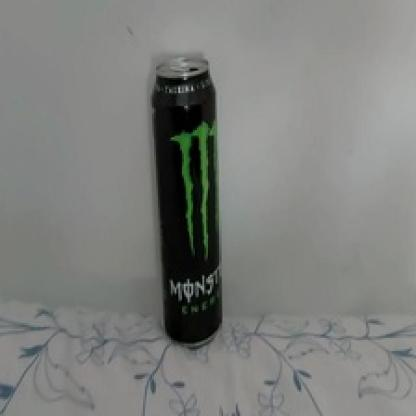Can: (148, 51, 225, 354)
